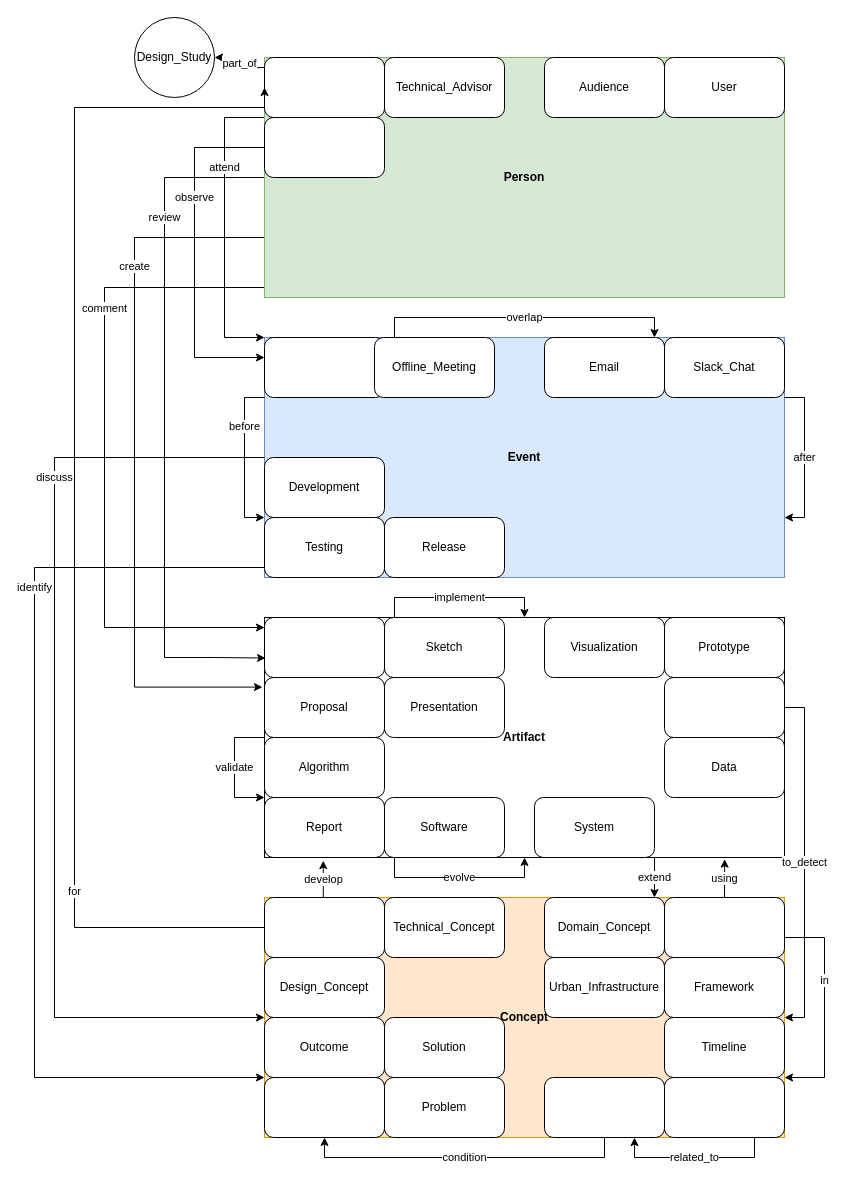
Some shapes in this 850 by 1183 pixel diagram are drawn without their labels. Each missing label, with the centre of its shape:
Computer_Expert: (324,87)
Domain_Expert: (324,147)
Location: (604,1107)
Notebook: (324,647)
Online_Meeting: (324,367)
Priority: (724,1107)
State: (324,1107)
Task: (724,927)
Tool: (724,707)
Weather_Event: (324,927)
